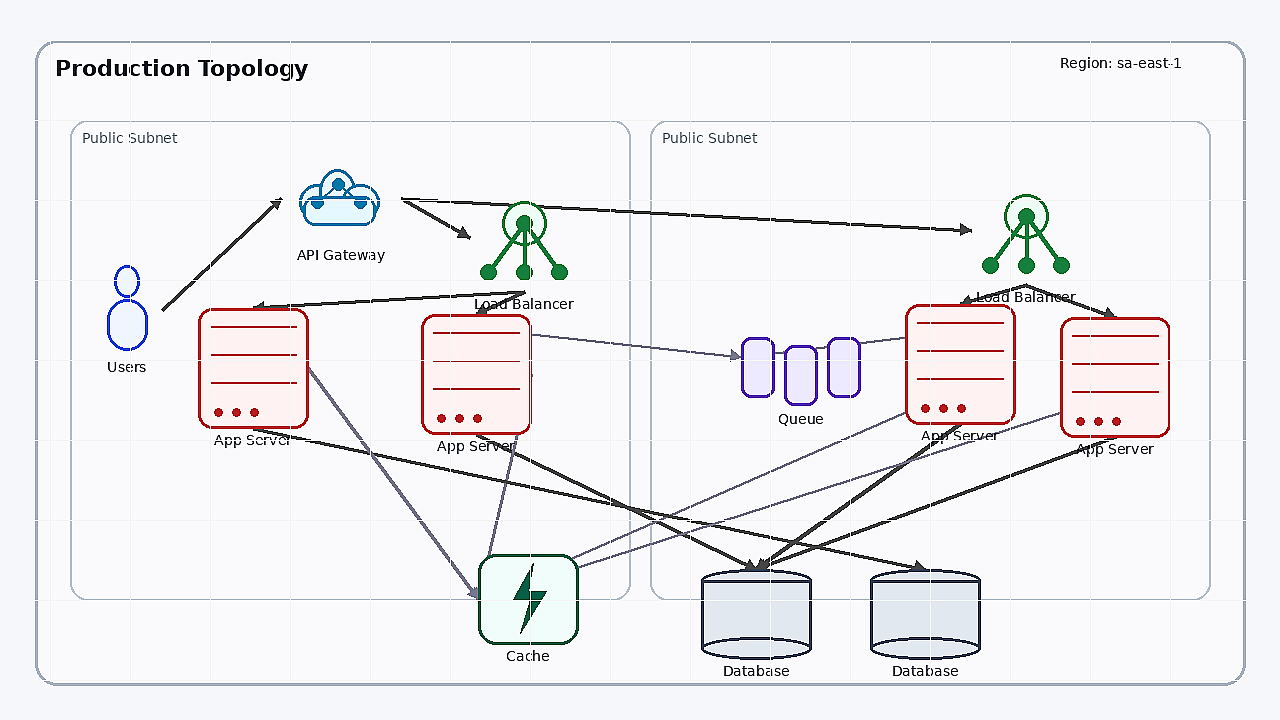API Gateway: (281, 153, 401, 243)
Application Server: (421, 314, 531, 434), (905, 304, 1015, 424), (198, 308, 308, 428), (1060, 317, 1170, 437)
Cache: (478, 554, 578, 644)
Database: (870, 569, 980, 659), (701, 569, 811, 659)
Load Balancer: (971, 175, 1081, 285), (469, 182, 579, 292)
Message Queue: (741, 337, 861, 407)
User: (92, 265, 162, 355)
